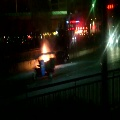fire: (41, 46, 54, 61)
